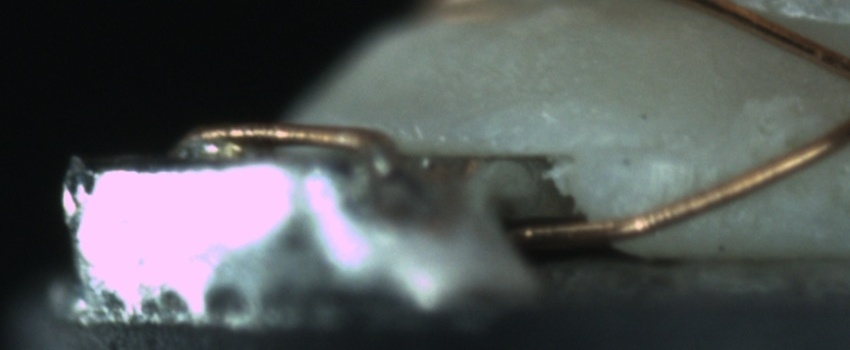DL: (576, 122, 710, 186)
TE: (160, 118, 393, 167)
